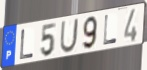4: (123, 7, 139, 44)
5: (40, 21, 58, 58)
9: (81, 15, 99, 51)
L: (19, 29, 35, 62), (102, 14, 118, 47)
U: (59, 18, 80, 55)
